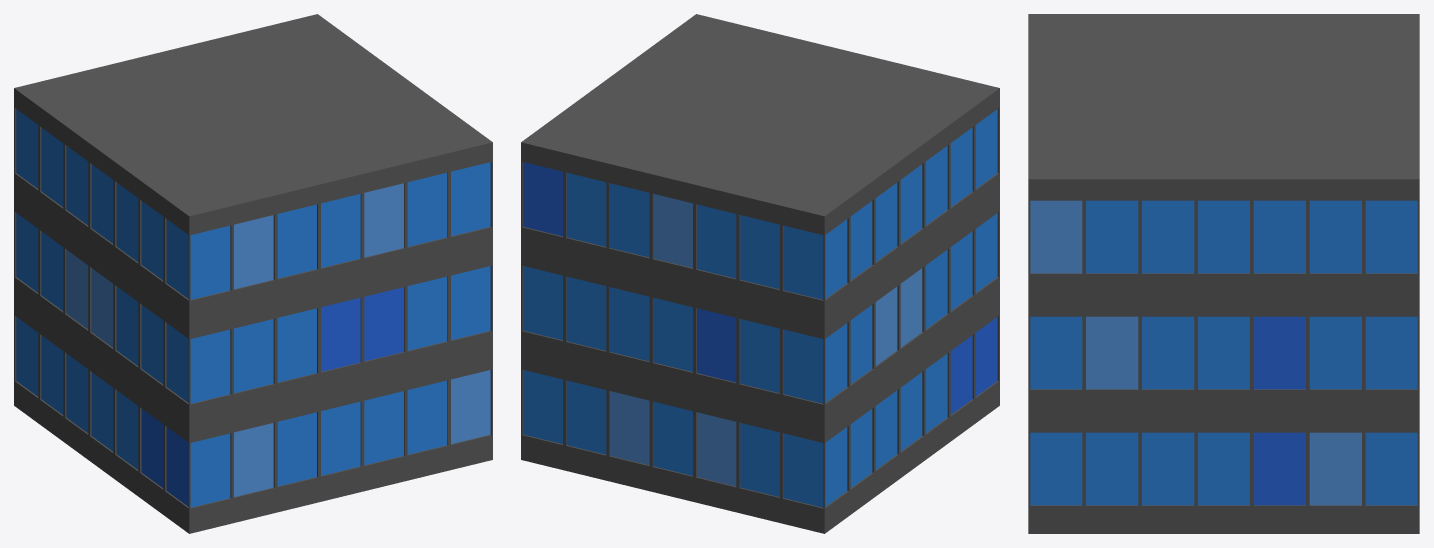
File: building_1x1_8_f.glb
3 renders of one model, left to right at view 1: azimuth 30°, elevation 25°; view 2: azimuth 150°, elevation 25°; view 3: azimuth 270°, elevation 25°, orthographic. The views are drawn at different scales.
Visible parts, largest first — view 1: SecondFloor; view 2: SecondFloor; view 3: SecondFloor.
Boxes of the visible parts, x1,y1,x2,y2 form: SecondFloor: [14, 14, 492, 533]; SecondFloor: [521, 14, 999, 533]; SecondFloor: [1028, 14, 1419, 533].
Bounding box in the file's own units: 1.62 × 1.62 × 1.62.
